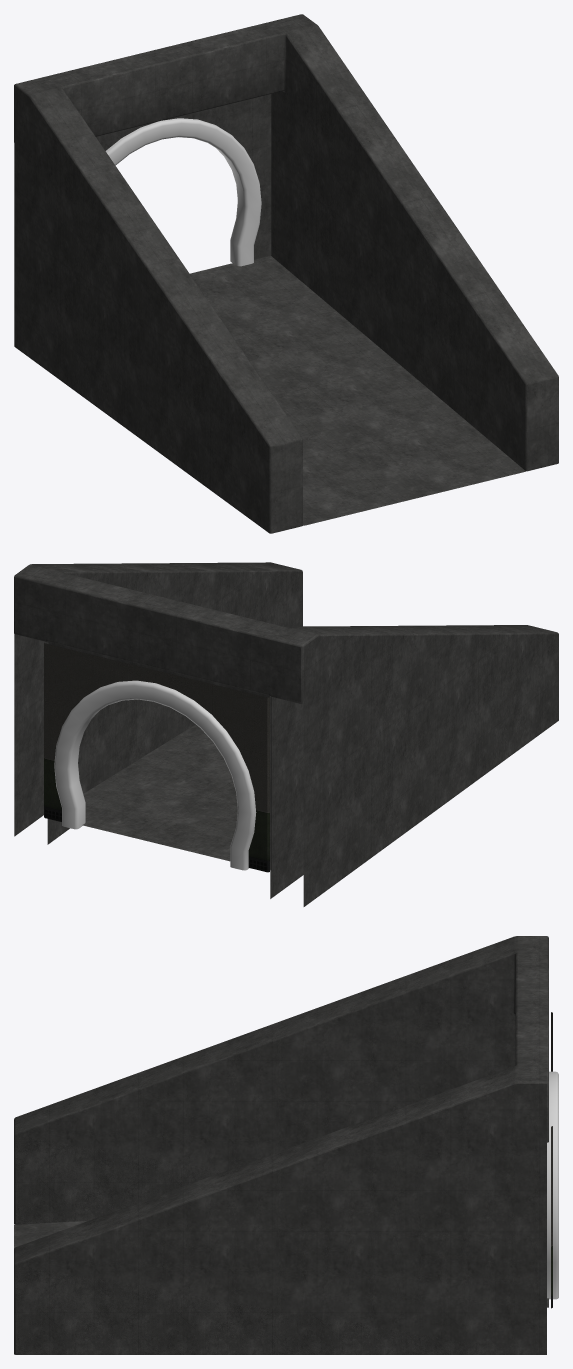
The model's file is bunker_entrance_1.obj.
The picture shows the model from 3 angles, top to bottom: view 1: azimuth 30°, elevation 25°; view 2: azimuth 150°, elevation 25°; view 3: azimuth 270°, elevation 25°; orthographic projection. The views are drawn at different scales.
Visible parts, largest first — view 1: bunker_entrance_1; view 2: bunker_entrance_1; view 3: bunker_entrance_1.
Part boxes in pixels (box(x1,y1,x2,y2)): bunker_entrance_1: box(14, 14, 558, 533); bunker_entrance_1: box(14, 562, 558, 906); bunker_entrance_1: box(14, 936, 558, 1354).
Bounding box in the file's own units: 5.2 × 4.5 × 8.15.
